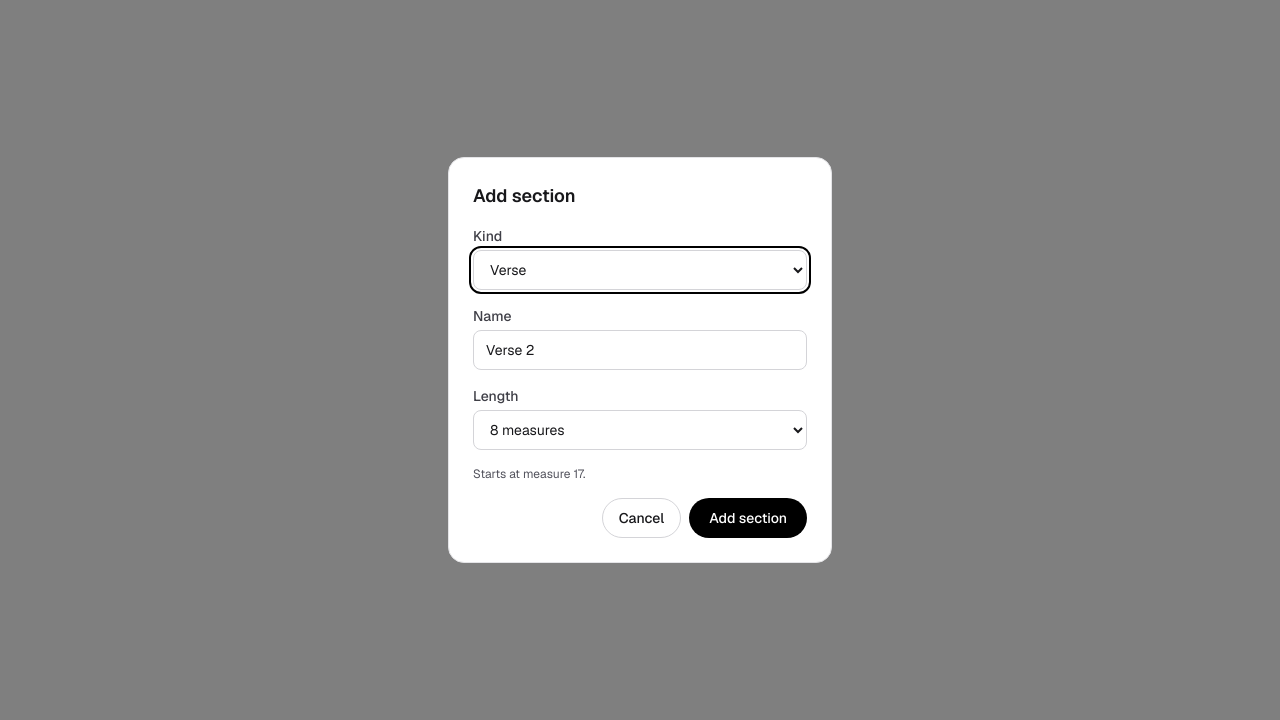
Test: SectionDialog › requires a name
Clear the field labelled "Name" at (640, 350), box [473,330,807,370]
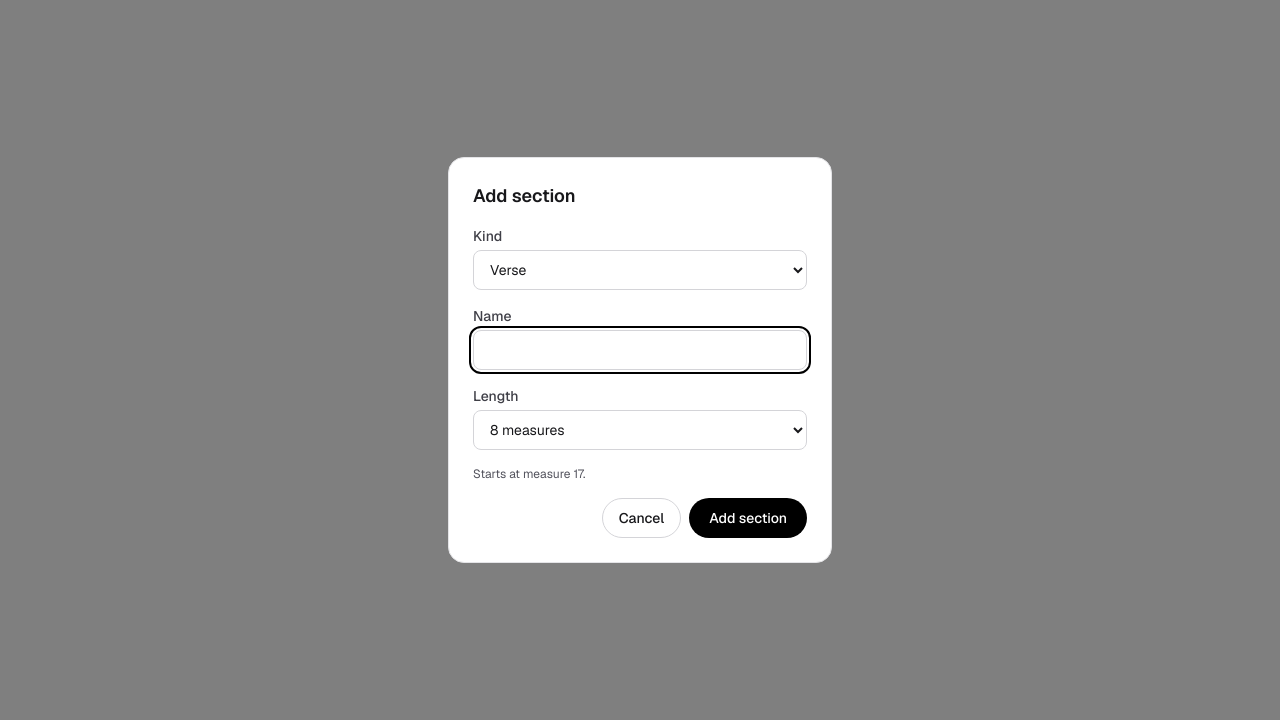
Click the button "Add section" at (748, 518), box [689,498,807,538]
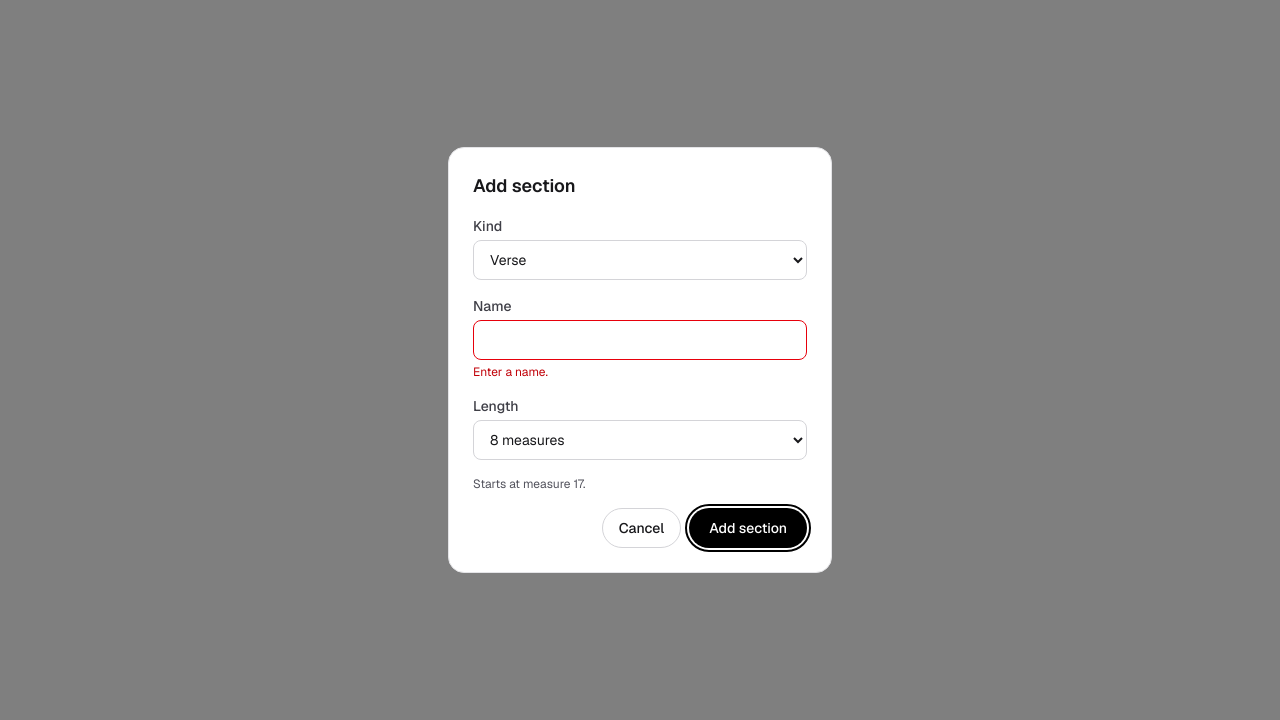
Expected: the message reads "Enter a name.", [473,364,548,380]
